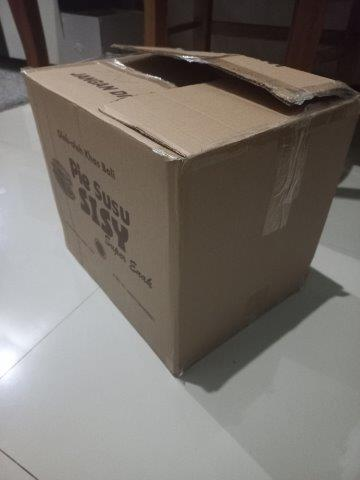kardus: (23, 49, 360, 380)
